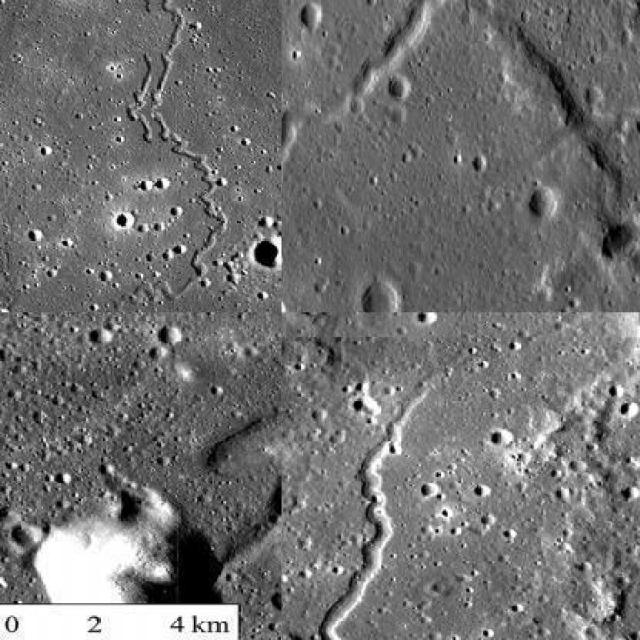rille: (12, 312, 280, 572), (316, 383, 478, 639), (108, 0, 228, 311), (300, 0, 478, 128), (125, 54, 154, 144)
